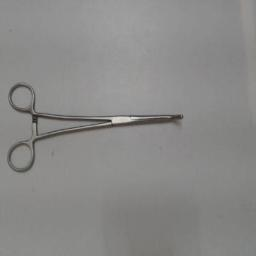Lahey Forceps: (4, 78, 188, 178)
